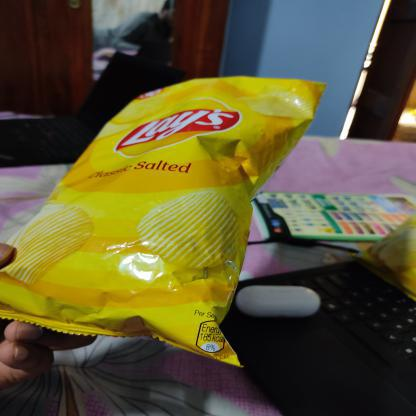classicsalted: (0, 75, 329, 368)
